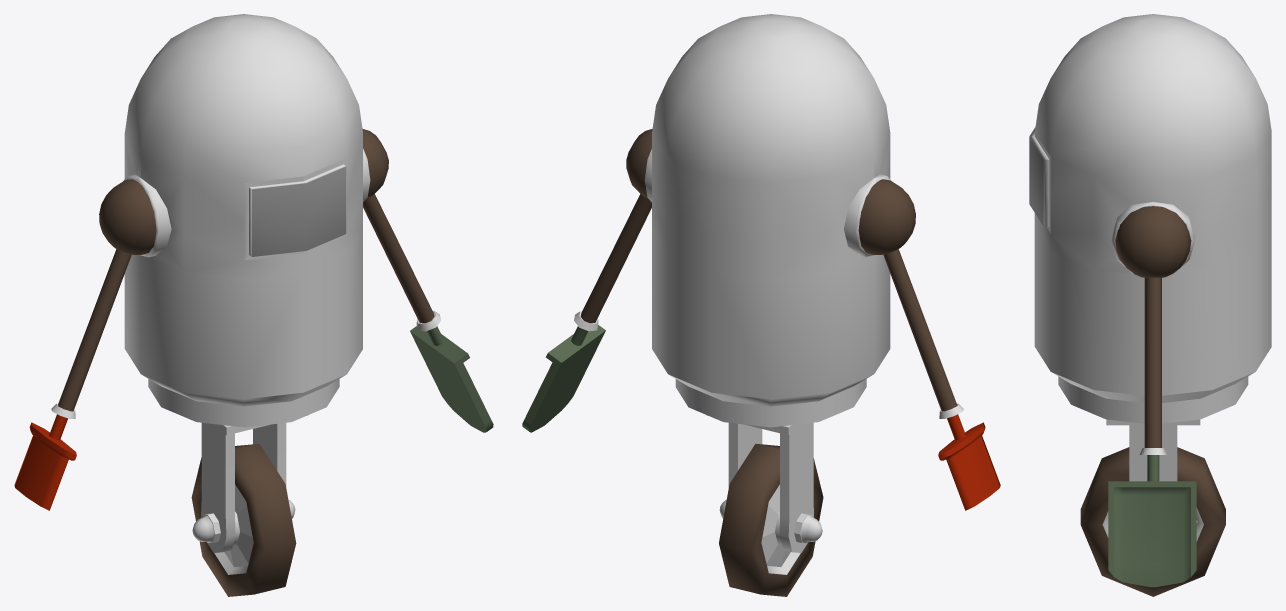
File: SM_CleaningBot.fbx
3 renders of one model, left to right at view 1: azimuth 30°, elevation 25°; view 2: azimuth 150°, elevation 25°; view 3: azimuth 270°, elevation 25°, orthographic.
Parts seen in each view (by area): view 1: CleaningBot; view 2: CleaningBot; view 3: CleaningBot.
Part boxes in pixels (x1,y1,x2,y2): CleaningBot: (14, 14, 493, 596); CleaningBot: (522, 14, 1000, 596); CleaningBot: (1029, 14, 1271, 596).
Bounding box in the file's own units: 103 × 125 × 48.69.
